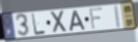3: (15, 13, 29, 38)
A: (69, 9, 88, 32)
F: (89, 6, 104, 31)
I: (114, 4, 122, 30)
L: (31, 13, 47, 37)
X: (50, 9, 69, 35)
